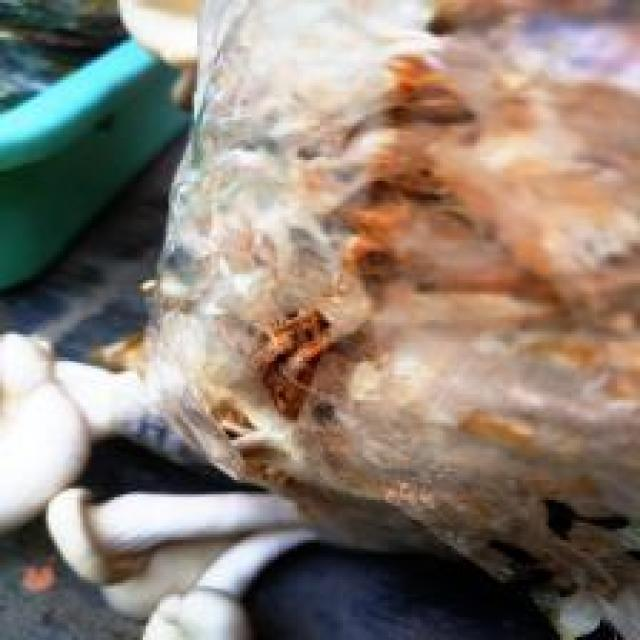death-cap: (137, 0, 640, 637)
